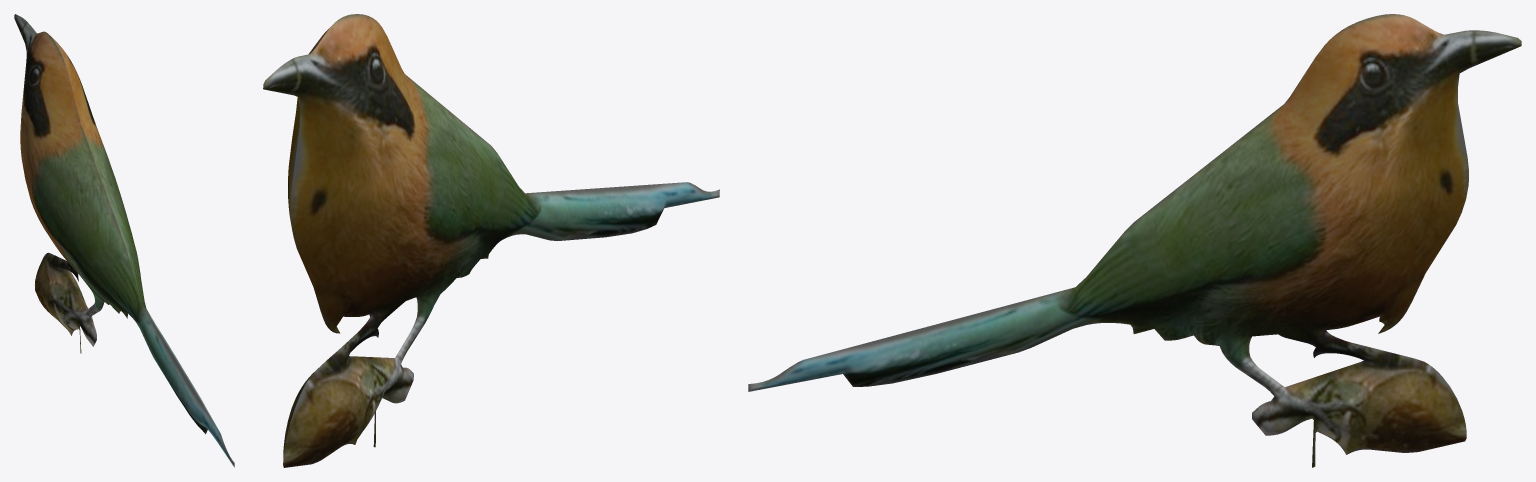
The model's file is 4337SRON_20200712-3P4A8762-removebg-preview.gltf.
The picture shows the model from 3 angles, left to right: view 1: azimuth 30°, elevation 25°; view 2: azimuth 150°, elevation 25°; view 3: azimuth 270°, elevation 25°; orthographic projection. The views are drawn at different scales.
Parts seen in each view (by area): view 1: node1; view 2: node1; view 3: node1.
Boxes of the visible parts, x1,y1,x2,y2 form: node1: [14, 14, 234, 467]; node1: [263, 14, 719, 467]; node1: [748, 14, 1521, 467].
Size of the model in its own units: 0.1927 by 0.768 by 1.2.
1 material, 1 textured.
